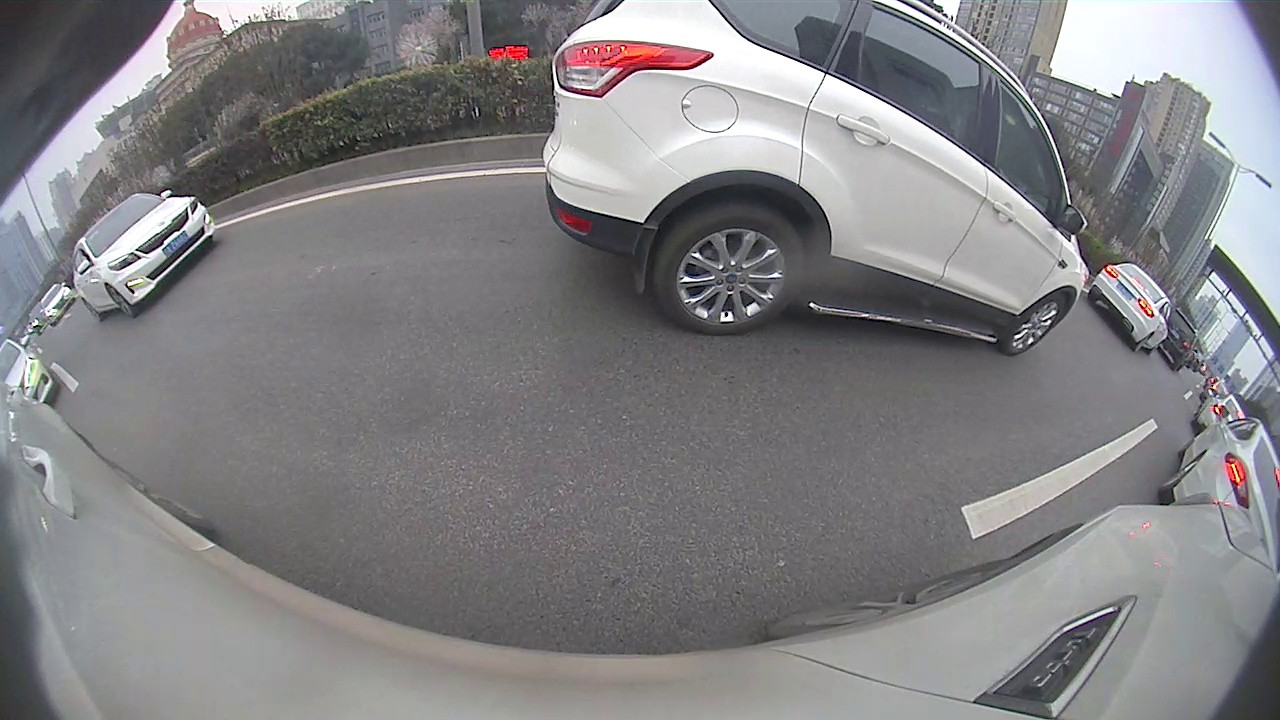car: (539, 1, 1091, 362), (65, 189, 219, 322), (1157, 407, 1279, 557), (1088, 262, 1177, 356), (2, 336, 61, 409)
front: (1001, 288, 1070, 355), (107, 284, 137, 322)
rear: (653, 207, 803, 339)
